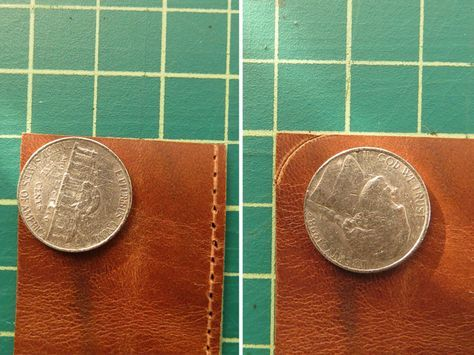cuero: (14, 131, 474, 355)
